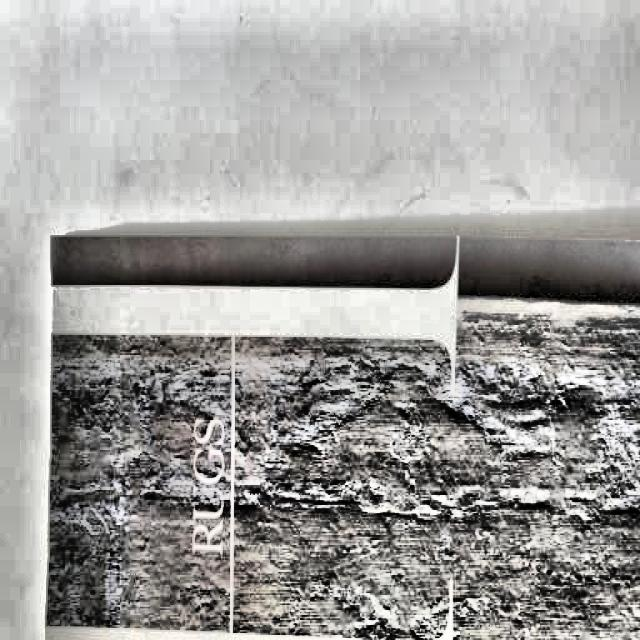paper: (41, 231, 640, 640)
